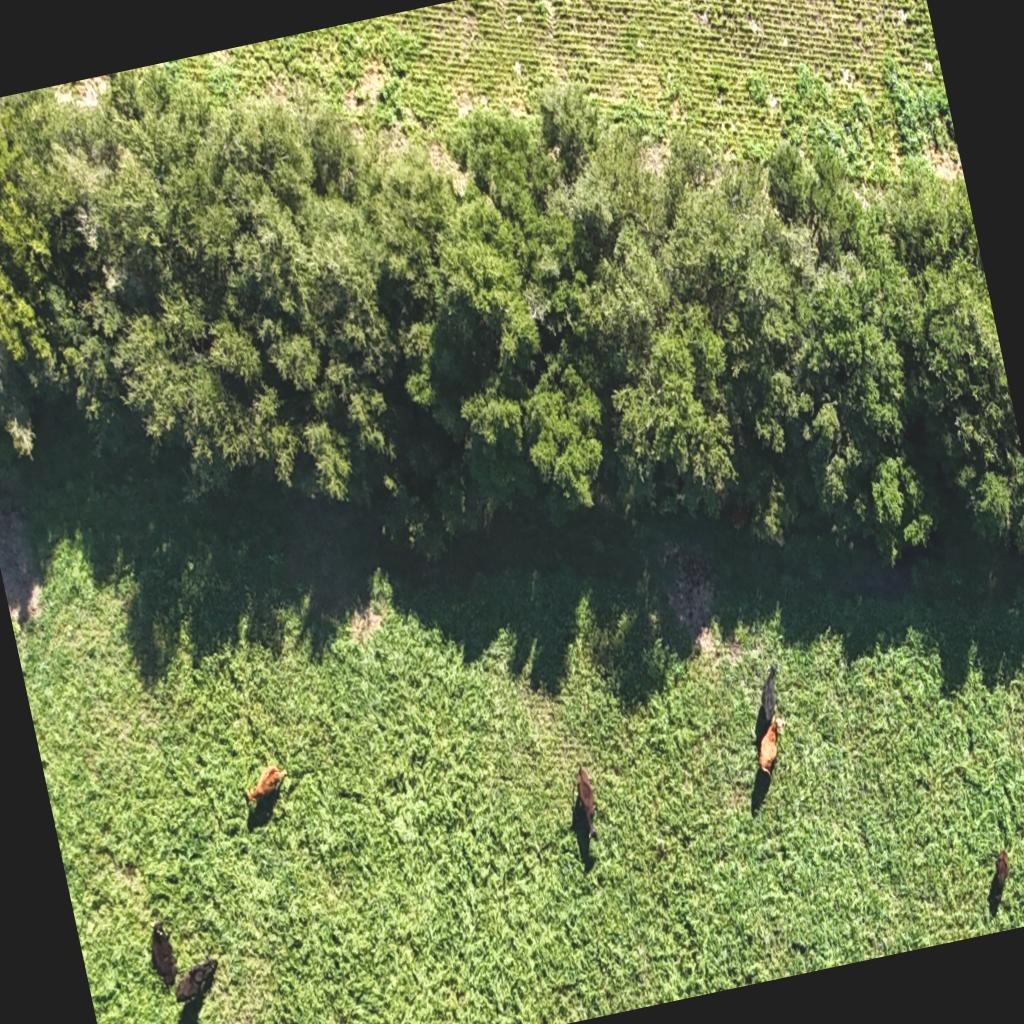cow: (720, 652, 802, 760), (142, 910, 226, 1010), (546, 758, 608, 875), (735, 724, 810, 815), (163, 949, 227, 1024), (978, 844, 1021, 910), (239, 758, 294, 808)
